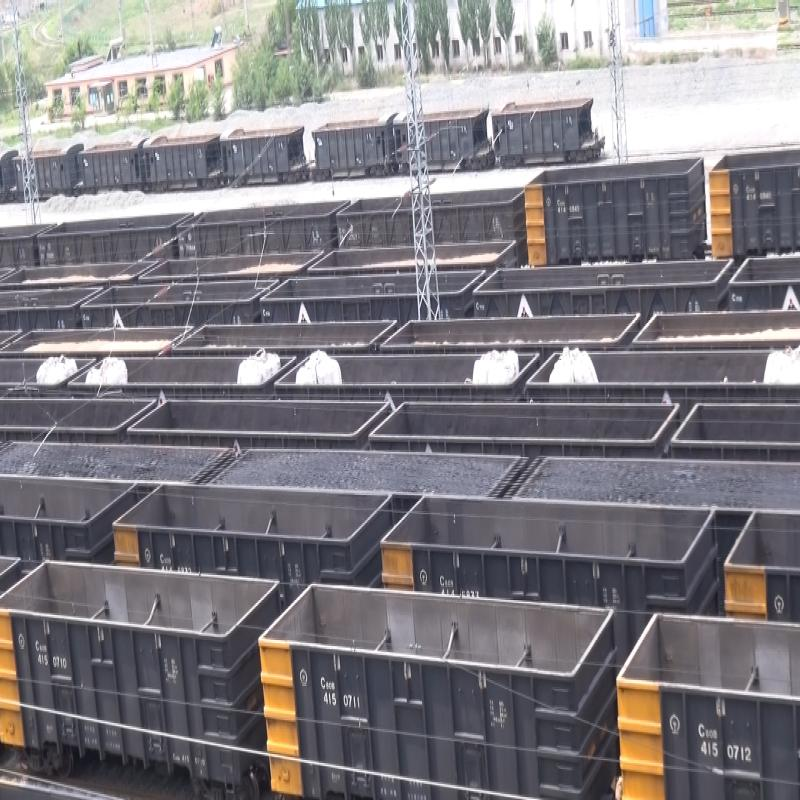train: (258, 584, 584, 800), (607, 579, 800, 800), (525, 175, 698, 260), (490, 106, 605, 164), (393, 106, 494, 168)
